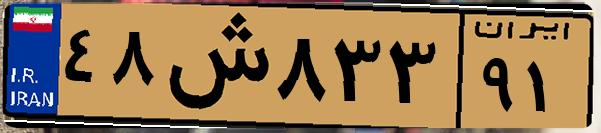1: (525, 38, 570, 115)
3: (385, 28, 445, 110), (330, 28, 385, 110)
4: (57, 26, 110, 100)
8: (270, 28, 330, 110), (110, 28, 158, 98)
9: (475, 38, 525, 113)
ش: (158, 12, 270, 120)
